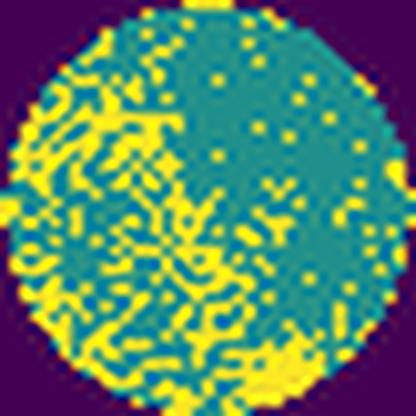Random: (0, 17, 369, 416)
